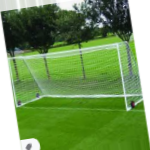goals: (10, 41, 143, 112)
